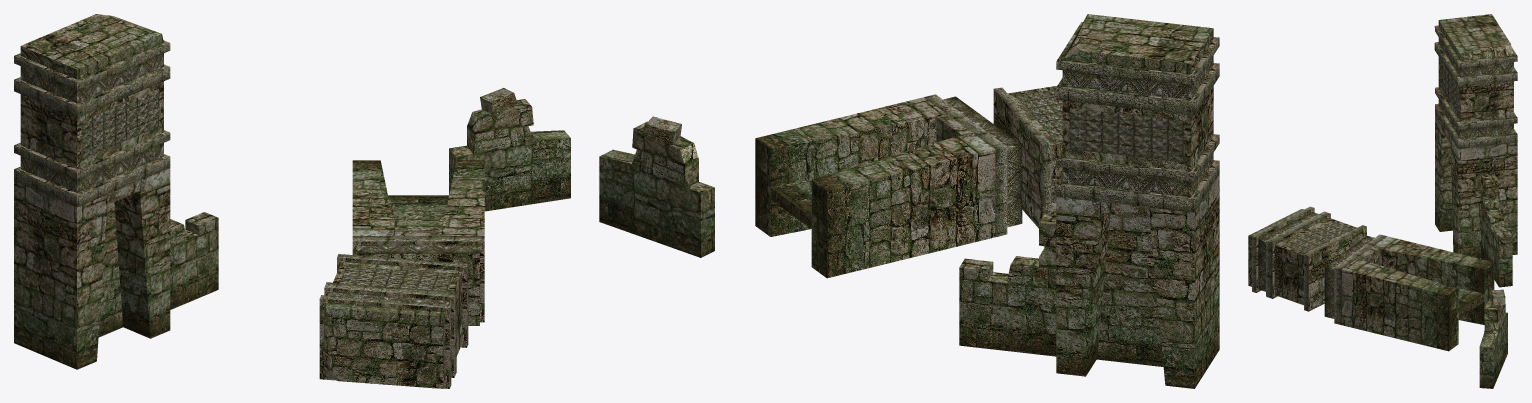
File: CARC02.glb
3 views of the same model, side by side, from view 1: azimuth 30°, elevation 25°; view 2: azimuth 150°, elevation 25°; view 3: azimuth 270°, elevation 25° (orthographic). The views are drawn at different scales.
Parts seen in each view (by area): view 1: _CARC02; view 2: _CARC02; view 3: _CARC02.
Part boxes in pixels (box(x1,y1,x2,y2)): _CARC02: box(14, 14, 570, 388); _CARC02: box(599, 14, 1219, 388); _CARC02: box(1248, 14, 1517, 388).
Bounding box in the file's own units: 11.33 × 5.86 × 6.98.
Materials: 1 (1 with a texture image).
